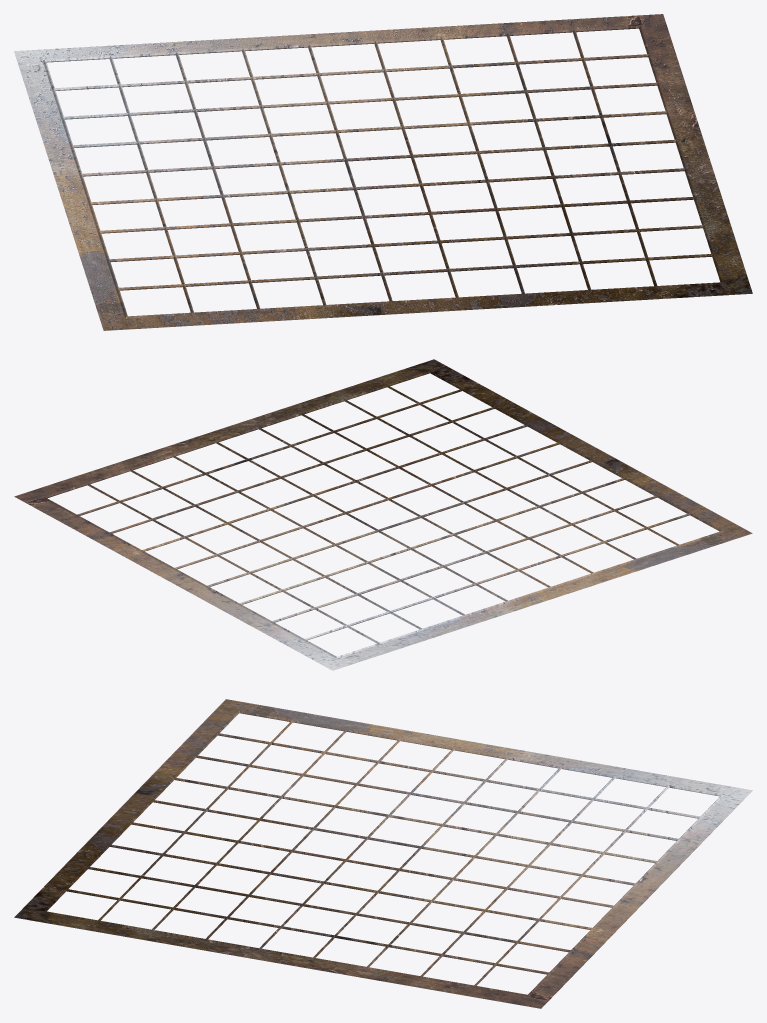
Rendered from RESHETKA(NAPOL).fbx.
3 views of the same model, one above another, from view 1: azimuth 30°, elevation 25°; view 2: azimuth 150°, elevation 25°; view 3: azimuth 270°, elevation 25° (orthographic). The views are drawn at different scales.
Visible parts, largest first — view 1: RESHETKA(NAPOL); view 2: RESHETKA(NAPOL); view 3: RESHETKA(NAPOL).
Part boxes in pixels (<box>): RESHETKA(NAPOL): <box>14,14,752,330</box>; RESHETKA(NAPOL): <box>14,359,752,670</box>; RESHETKA(NAPOL): <box>14,699,752,1008</box>.
Size of the model in its own units: 563 by 2.14 by 567.
1 material, 1 textured.
